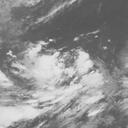cyclone: (4, 41, 115, 127)
